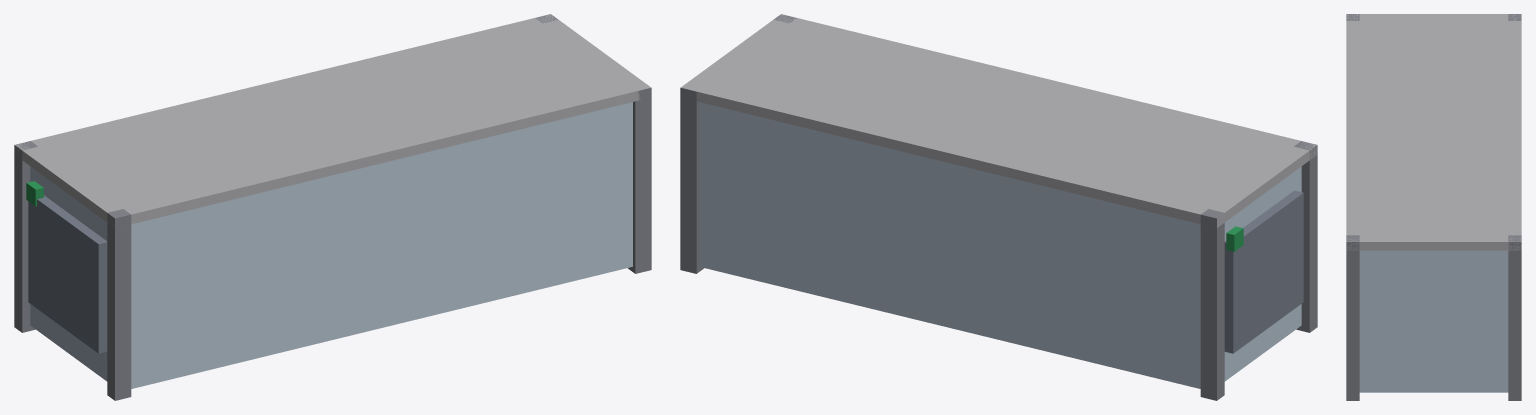
Rendered from reefer40.glb.
3 views of the same model, side by side, from view 1: azimuth 30°, elevation 25°; view 2: azimuth 150°, elevation 25°; view 3: azimuth 270°, elevation 25° (orthographic). The views are drawn at different scales.
Parts seen in each view (by area): view 1: reefer40; view 2: reefer40; view 3: reefer40.
Part boxes in pixels (box(x1,y1,x2,y2)): reefer40: box(14, 14, 651, 400); reefer40: box(680, 14, 1317, 400); reefer40: box(1346, 14, 1521, 400).
Size of the model in its own units: 4.02 by 1.3 by 1.3.
